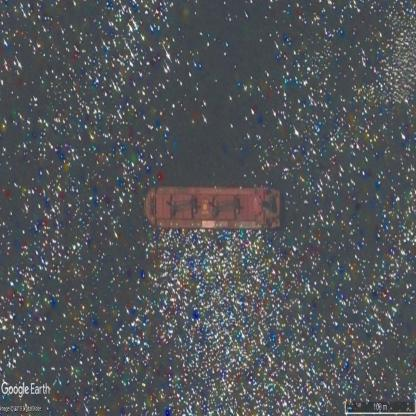ship: (146, 187, 281, 229)
